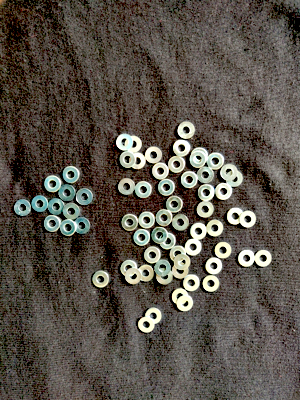circle: (173, 140, 191, 157), (185, 239, 202, 257), (197, 167, 215, 184), (255, 250, 272, 268), (116, 134, 133, 151), (125, 136, 142, 153), (129, 153, 146, 170), (63, 167, 80, 184), (44, 176, 61, 193), (145, 147, 162, 164), (14, 200, 31, 217), (31, 196, 48, 213), (59, 185, 76, 202), (76, 189, 93, 206), (118, 179, 135, 196), (135, 182, 152, 199), (152, 163, 169, 180), (158, 180, 175, 197), (138, 212, 155, 229), (92, 271, 109, 288), (125, 268, 142, 285), (178, 122, 195, 139), (181, 172, 198, 189), (144, 247, 161, 264), (174, 254, 191, 271), (170, 246, 187, 263), (159, 233, 176, 250), (190, 223, 207, 240), (207, 220, 224, 237), (227, 208, 244, 225), (240, 211, 257, 228), (197, 201, 214, 218), (215, 184, 232, 201), (221, 164, 238, 181), (190, 151, 207, 168), (191, 148, 208, 165), (207, 153, 224, 170), (183, 275, 200, 292), (203, 276, 220, 293), (215, 243, 232, 260), (120, 151, 136, 169), (138, 265, 154, 283), (239, 250, 255, 268), (48, 199, 65, 215), (63, 204, 80, 220), (44, 216, 61, 232), (60, 220, 76, 237), (74, 218, 90, 235), (166, 197, 183, 213), (156, 210, 173, 226), (121, 215, 138, 231), (134, 230, 150, 247), (120, 261, 137, 277), (168, 157, 185, 173), (155, 260, 171, 277), (172, 289, 189, 305), (198, 185, 215, 201), (227, 171, 243, 188), (206, 258, 222, 275), (145, 309, 162, 325), (138, 317, 155, 333), (152, 227, 168, 244), (173, 215, 189, 231), (157, 269, 173, 285), (177, 296, 193, 312), (173, 263, 189, 279)
